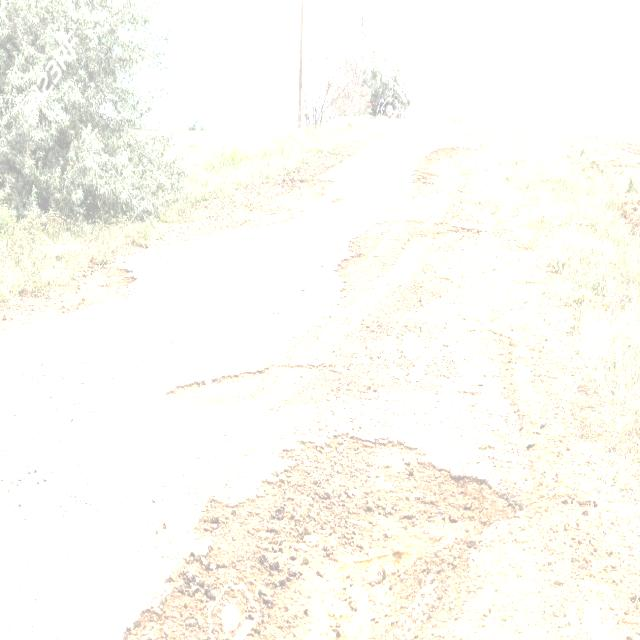Pothole: (113, 369, 640, 640)
